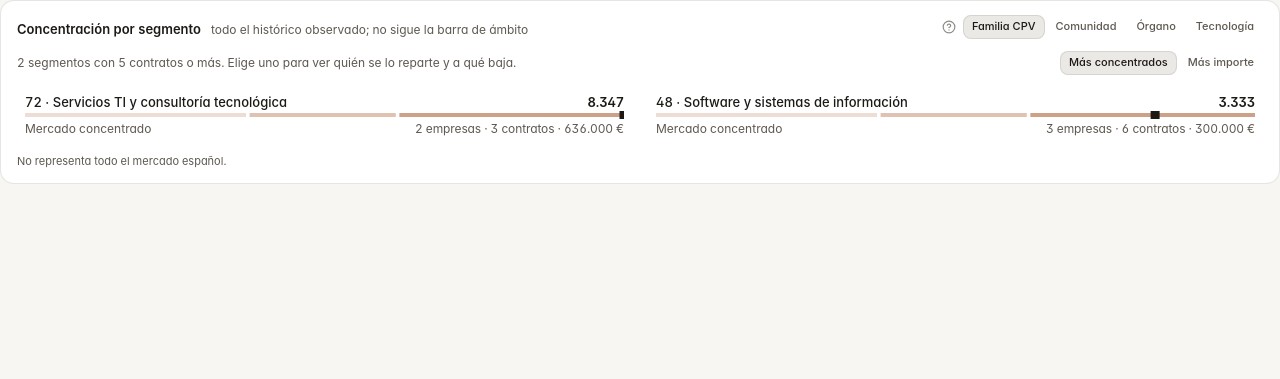
Concentración por segmento › un segmento sin bajas comparables lo dice en vez de enseñar un 0 %
Click the button "48 · Software".
click(956, 115)  # box x1=648 y1=87 x2=1263 y2=143
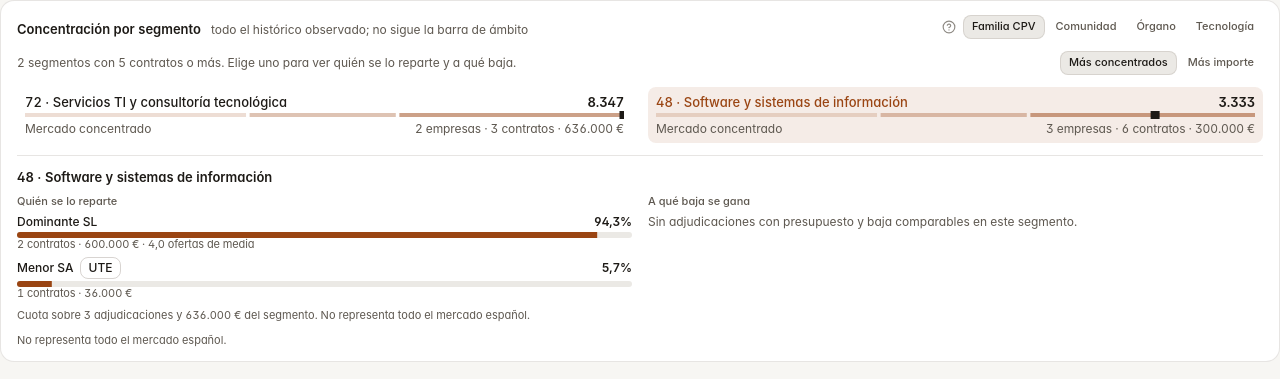
Result: the text "Sin adjudicaciones con presupuesto y baja comparables" is shown at x1=648 y1=214 x2=1077 y2=229
